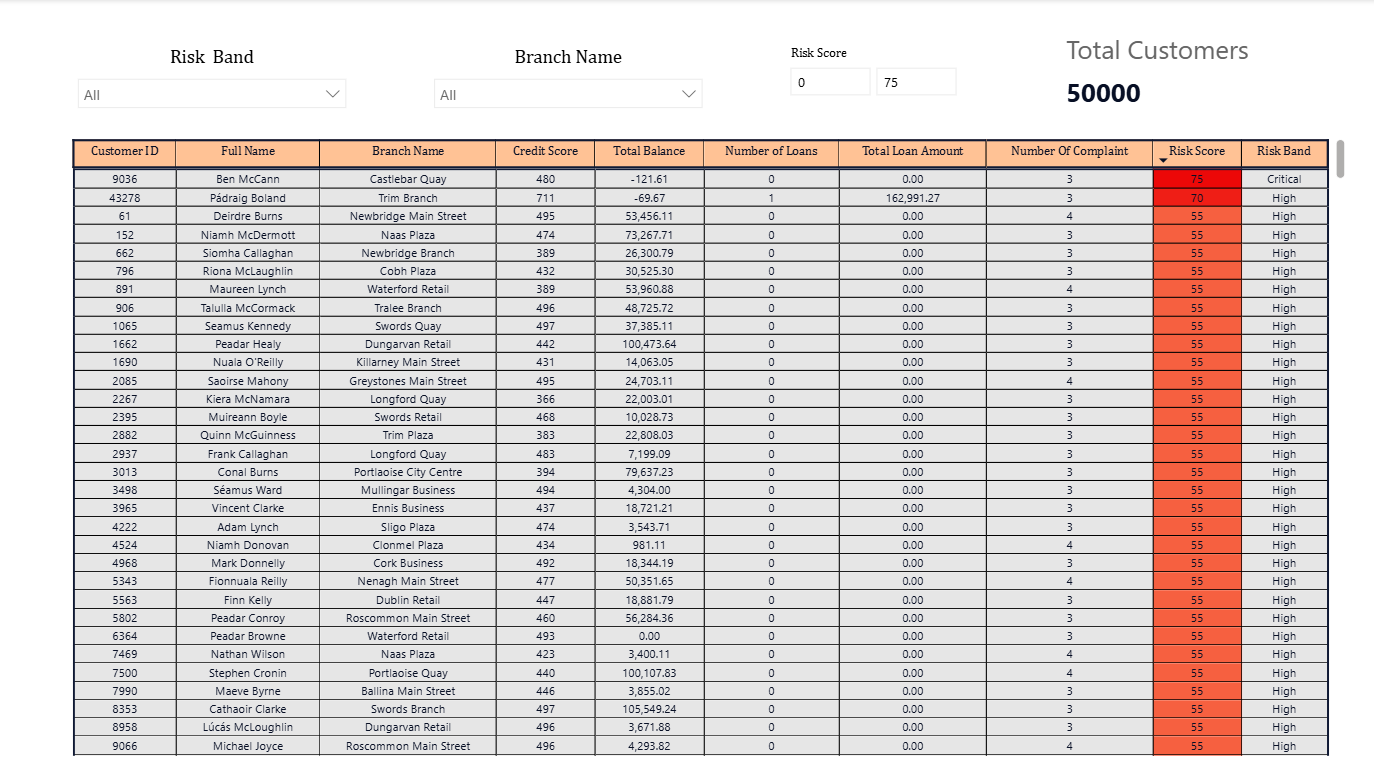

What the dashboard file says about the page in this screenshot:
{"tool":"powerbi","page":{"name":"Customer Investigation","canvas":[1280,720],"ordinal":1},"visuals":[{"type":"slicer","title":"Risk  Band","fields":{"Values":["irish_retail_bank_customer_distress_profile.risk_band"]},"box":[64.3,42.9,270,82.9],"z":0},{"type":"slicer","title":"Branch Name","fields":{"Values":["irish_retail_bank_customer_distress_profile.Branch_Name"]},"box":[395.7,42.9,270,150],"z":1},{"type":"tableEx","fields":{"Values":["irish_retail_bank_customer_distress_profile.customer_id","irish_retail_bank_customer_distress_profile.customer_full_name","irish_retail_bank_customer_distress_profile.Branch_Name","irish_retail_bank_customer_distress_profile.credit_score","irish_retail_bank_customer_distress_profile.combined_balance","Sum(irish_retail_bank_customer_distress_profile.total_loans)","Sum(irish_retail_bank_customer_distress_profile.total_loan_amount)","Sum(irish_retail_bank_customer_distress_profile.total_complaints)","Sum(irish_retail_bank_customer_distress_profile.risk_score)","irish_retail_bank_customer_distress_profile.risk_band"]},"box":[18.6,142.9,1027.1,527.1],"z":2},{"type":"slicer","fields":{"Values":["irish_retail_bank_customer_distress_profile.risk_score"]},"box":[724.3,38.6,237.1,80],"z":3},{"type":"cardVisual","fields":{"Data":["Count(irish_retail_bank_customer_distress_profile.customer_id)"]},"box":[977.1,7.1,225.7,118.6],"z":4}]}

Visuals, with their boxes in screenshot pixels (x1, y1, x2, y2), scaled from the page's 1280x720 canvas onto the 1374x773 screenshot:
"Risk  Band" slicer: [69, 46, 359, 135]
"Branch Name" slicer: [425, 46, 715, 207]
tableEx - irish_retail_bank_customer_distress_profile.customer_id x irish_retail_bank_customer_distress_profile.customer_full_name: [20, 153, 1122, 719]
slicer - irish_retail_bank_customer_distress_profile.risk_score: [777, 41, 1032, 127]
cardVisual - Count(irish_retail_bank_customer_distress_profile.customer_id): [1049, 8, 1291, 135]
